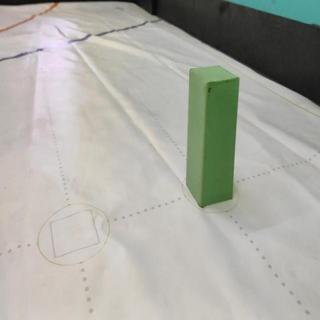greenbox: (185, 63, 240, 209)
